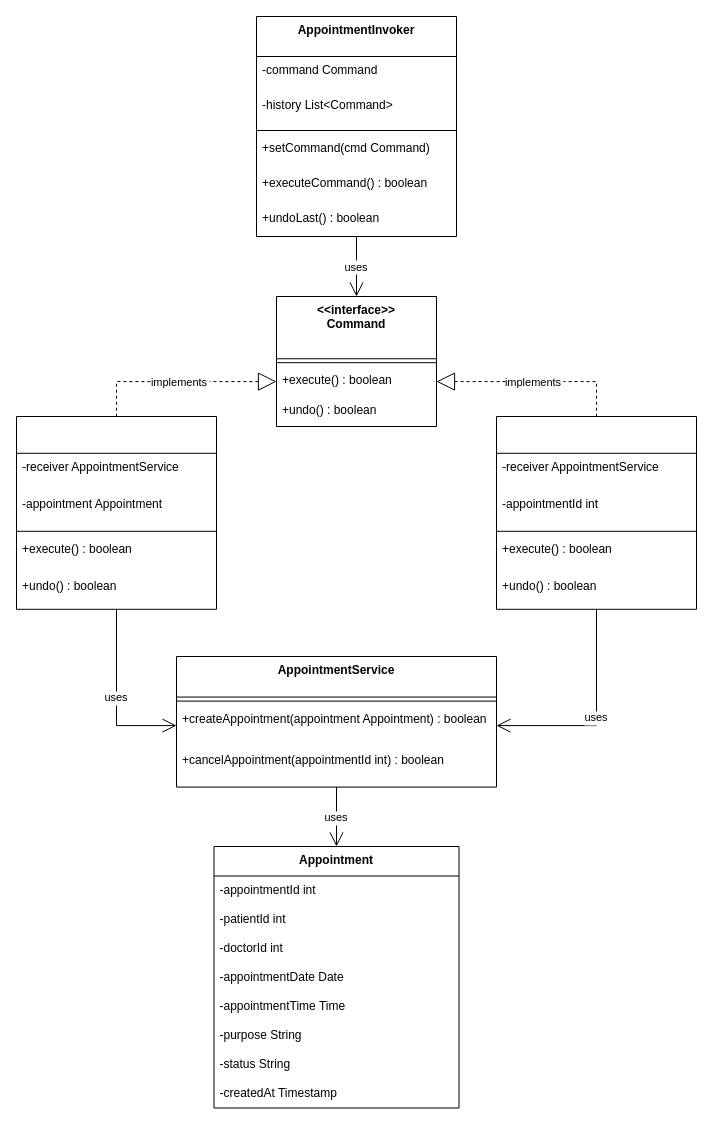
This 713x1124 diagram has some shape labels left out. Here are the shapes that lost their labels. From the top down, the box of each, then its label:
(16, 416, 216, 609): CreateAppointmentCommand
(496, 416, 696, 609): CancelAppointmentCommand
